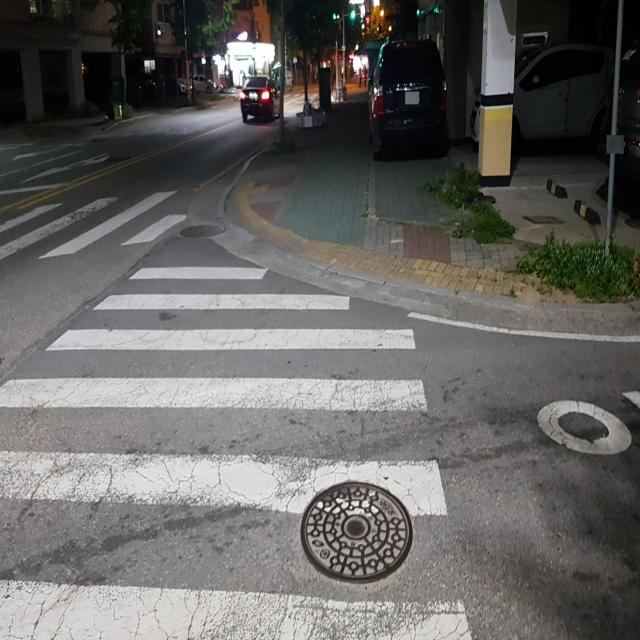횡단보도: (0, 264, 476, 639), (0, 188, 189, 260)
